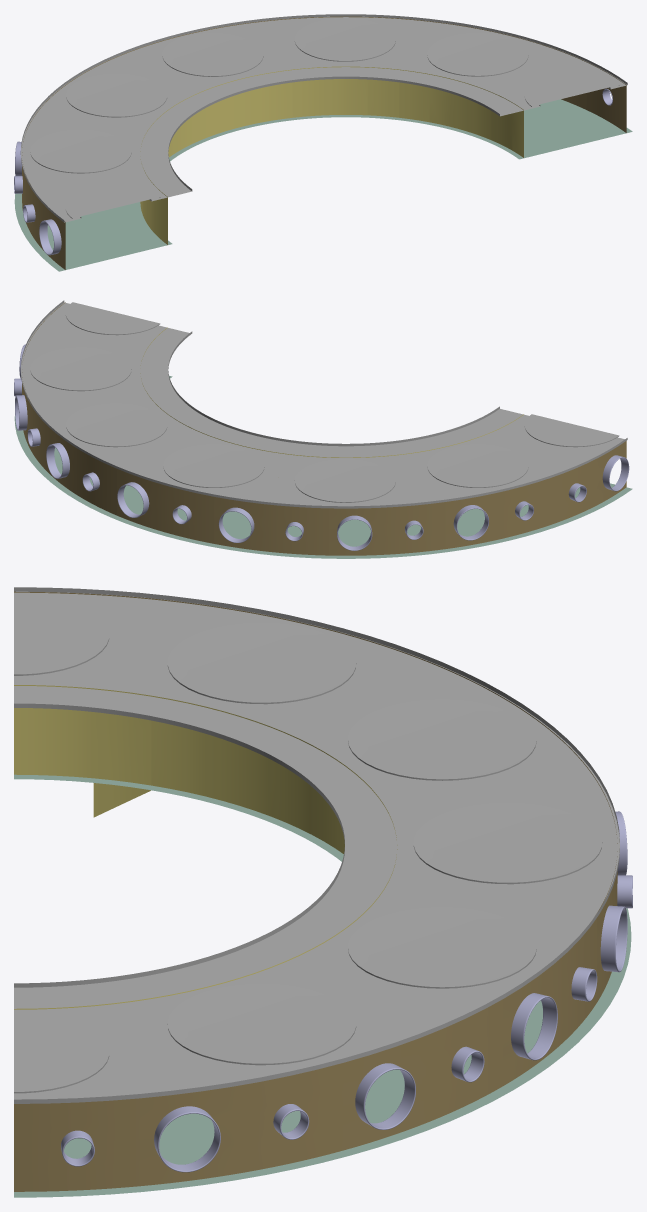
The model's file is FirstFloorTunnelLoopR.fbx.
3 renders of one model, top to bottom at view 1: azimuth 30°, elevation 25°; view 2: azimuth 150°, elevation 25°; view 3: azimuth 270°, elevation 25°, orthographic. The views are drawn at different scales.
Parts seen in each view (by area): view 1: RightPartCelling, FloorPart_07, separated_01_4, WallPart_17, WallPart_16, WallPart_11, WallPart_03, separated_01_10, WallPart_01, WallPart_14, WallCorridor13, Windows7 (+6 smaller); view 2: RightPartCelling, WallCorridor4, WallCorridor3, WallCorridor5, WallCorridor2, WallCorridor13, WallCorridor1, FloorPart_05, FloorPart_06, FloorPart_04, WallCorridor7, FloorPart_03 (+9 smaller); view 3: RightPartCelling, WallCorridor8, WallCorridor7, separated_01_10, WallPart_15, separated_01_5, WallCorridor1, WallPart_08, WallPart_05, FloorPart_12, Windows, FloorPart_09 (+7 smaller).
Boxes of the visible parts, bbox=[...] form: RightPartCelling: bbox=[20, 14, 627, 222]; FloorPart_07: bbox=[19, 215, 172, 271]; separated_01_4: bbox=[488, 105, 632, 159]; WallPart_17: bbox=[292, 66, 367, 117]; WallPart_16: bbox=[225, 69, 292, 131]; WallPart_11: bbox=[429, 74, 491, 139]; WallPart_03: bbox=[173, 83, 224, 153]; separated_01_10: bbox=[586, 62, 626, 132]; WallPart_01: bbox=[367, 67, 399, 117]; WallPart_14: bbox=[399, 69, 429, 122]; WallCorridor13: bbox=[26, 175, 65, 269]; Windows7: bbox=[23, 204, 61, 255]; RightPartCelling: bbox=[20, 300, 627, 508]; WallCorridor4: bbox=[329, 502, 445, 555]; WallCorridor3: bbox=[214, 497, 328, 555]; WallCorridor5: bbox=[446, 478, 549, 548]; WallCorridor2: bbox=[117, 469, 214, 543]; WallCorridor13: bbox=[550, 441, 626, 524]; WallCorridor1: bbox=[50, 428, 116, 515]; FloorPart_05: bbox=[328, 519, 447, 558]; FloorPart_06: bbox=[446, 509, 553, 551]; FloorPart_04: bbox=[211, 516, 328, 558]; WallCorridor7: bbox=[22, 383, 49, 473]; FloorPart_03: bbox=[112, 504, 243, 546]; RightPartCelling: bbox=[14, 587, 619, 1103]; WallCorridor8: bbox=[139, 1063, 342, 1186]; WallCorridor7: bbox=[342, 1000, 502, 1150]; separated_01_10: bbox=[14, 1098, 139, 1191]; WallPart_15: bbox=[151, 695, 270, 815]; separated_01_5: bbox=[14, 685, 93, 778]; WallCorridor1: bbox=[502, 913, 596, 1086]; WallPart_08: bbox=[93, 688, 151, 817]; WallPart_05: bbox=[270, 726, 355, 853]; FloorPart_12: bbox=[159, 1113, 264, 1188]; Windows: bbox=[511, 967, 597, 1060]; FloorPart_09: bbox=[202, 1088, 450, 1174].
Size of the model in its own units: 4905 by 581 by 2456.
